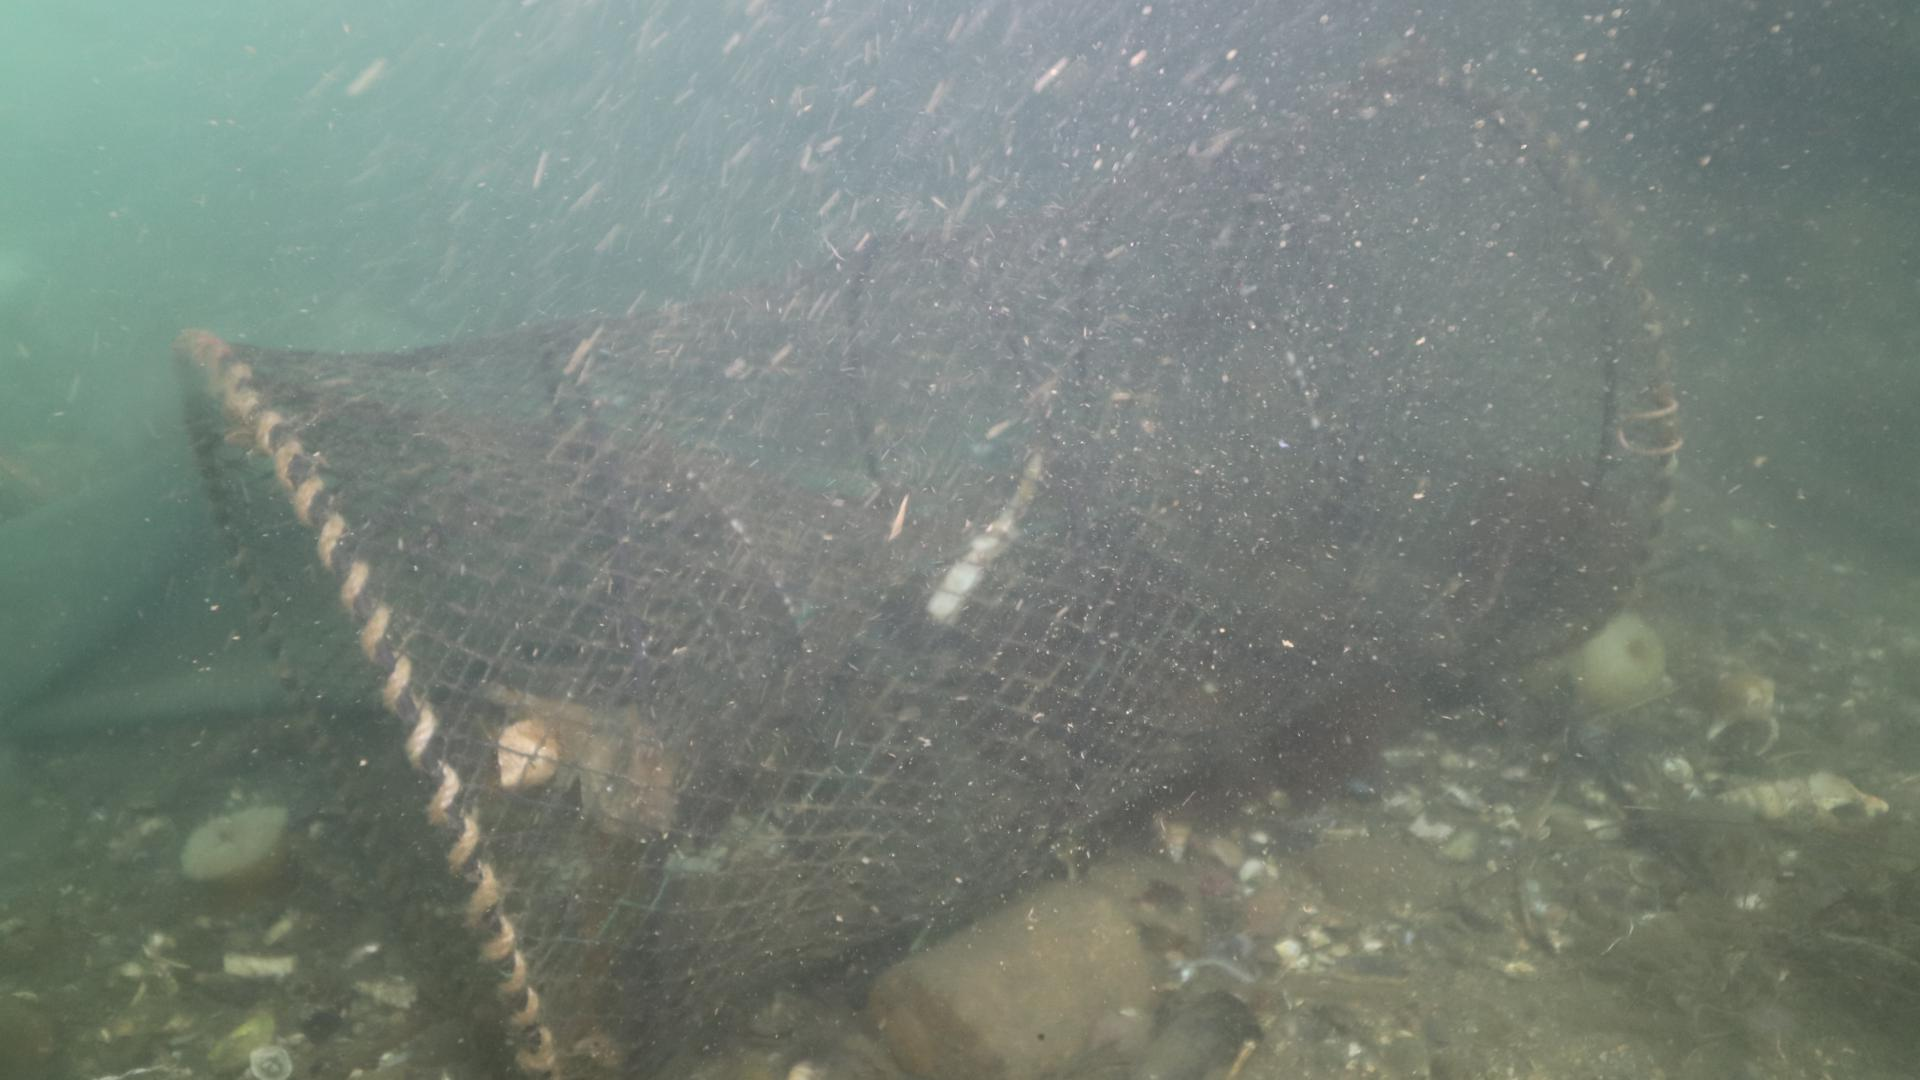spring fish trap: (179, 73, 1677, 1080)
